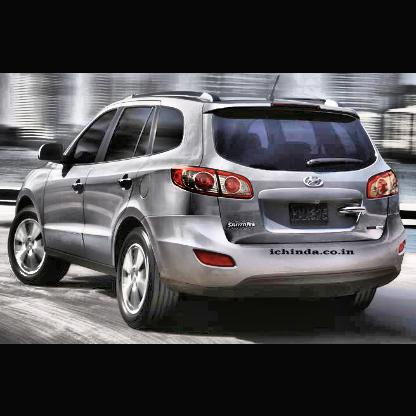Hyundai Santa Fe SUV 2012: (10, 91, 408, 331)
